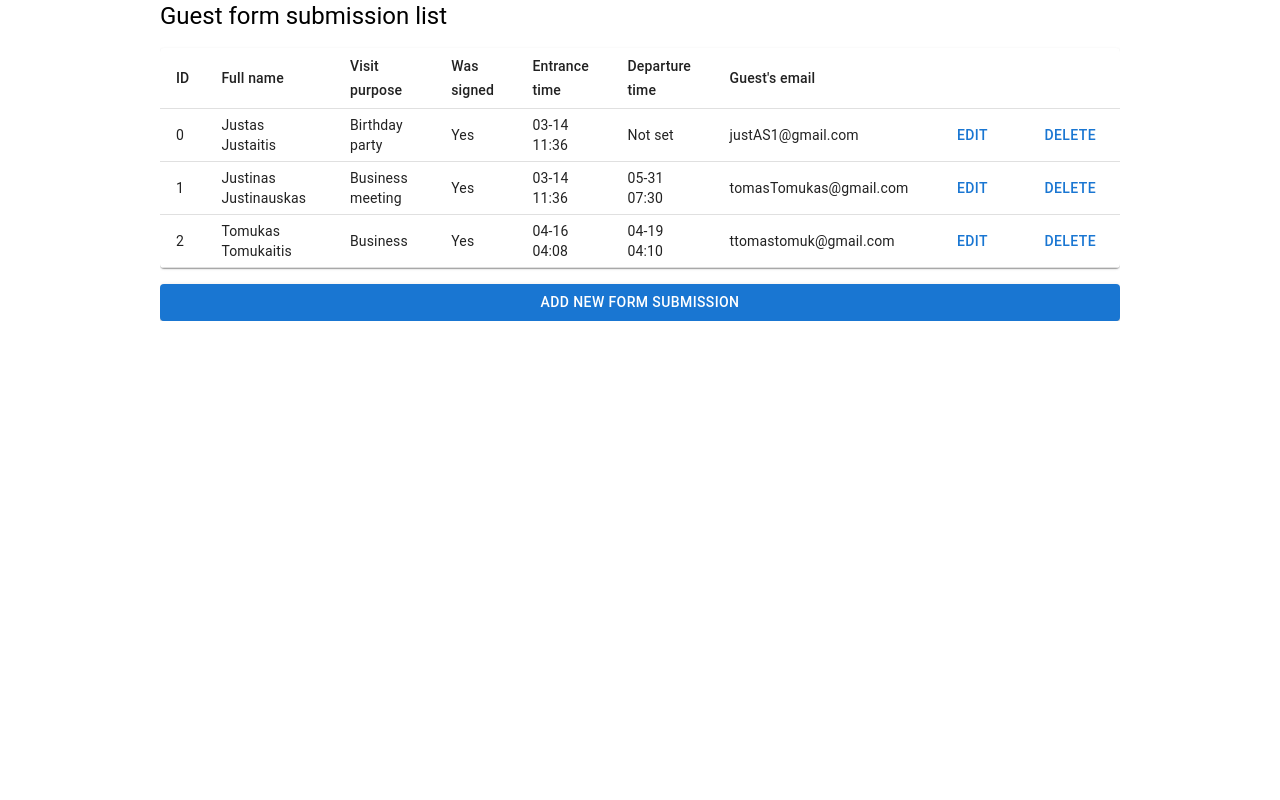
Test case: Forms › Delete dialog › Should display when clicking 'delete'
Click the button with test id "table_delete_dialog_btn_2" at (1070, 241), box [1036, 223, 1104, 259]
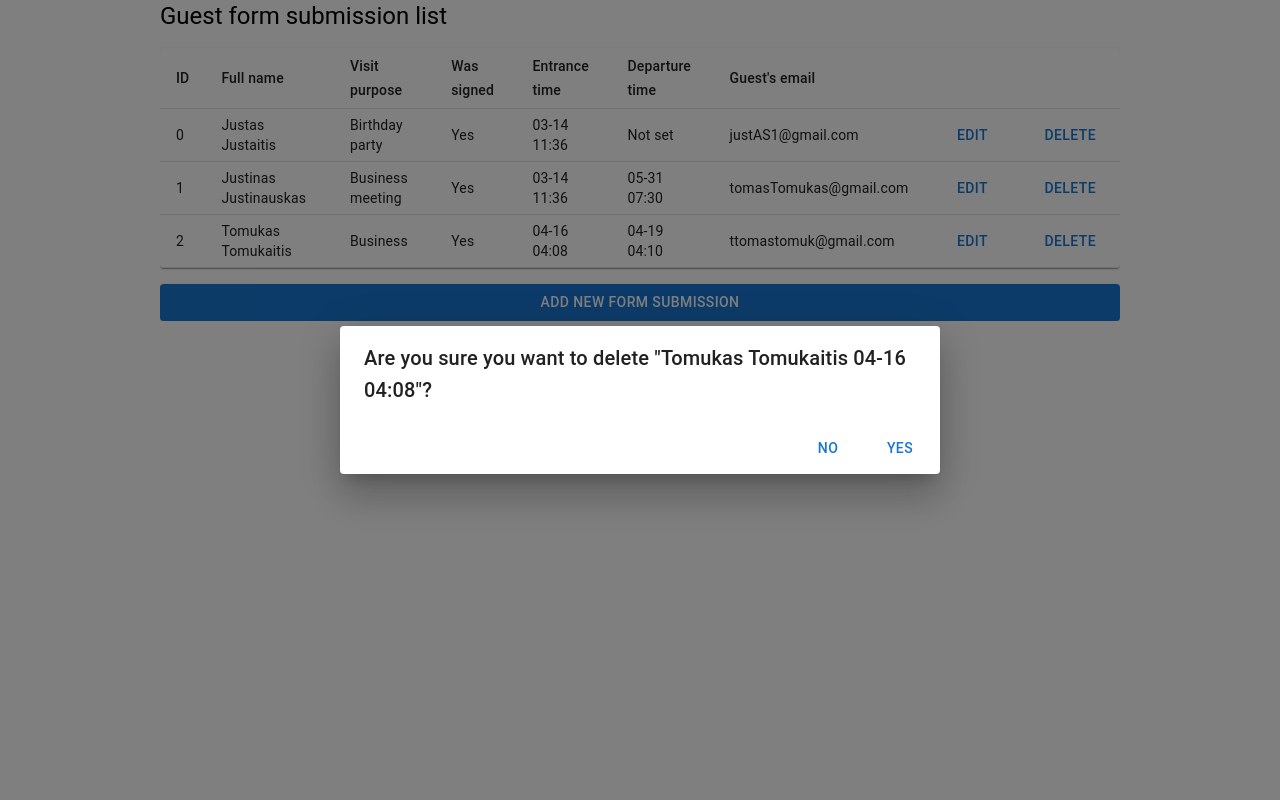
Expected: the button with test id "table_delete_conf_btn_2" is shown, [868, 430, 932, 466]
